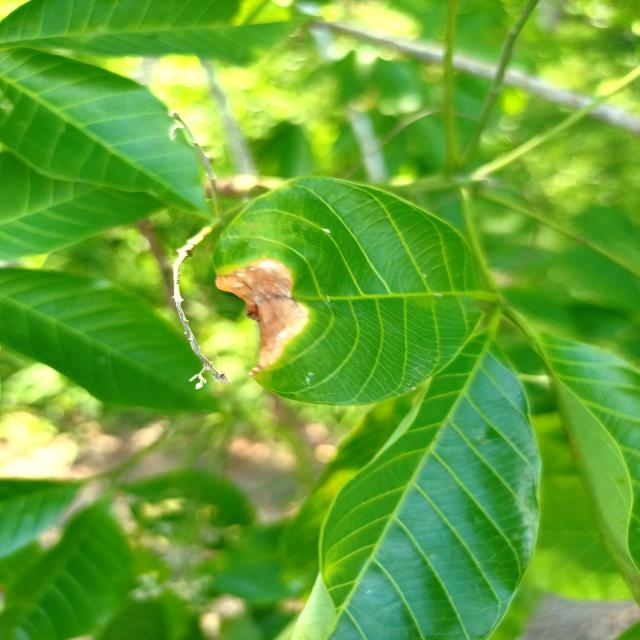Leaf-Blight: (215, 260, 311, 376)
